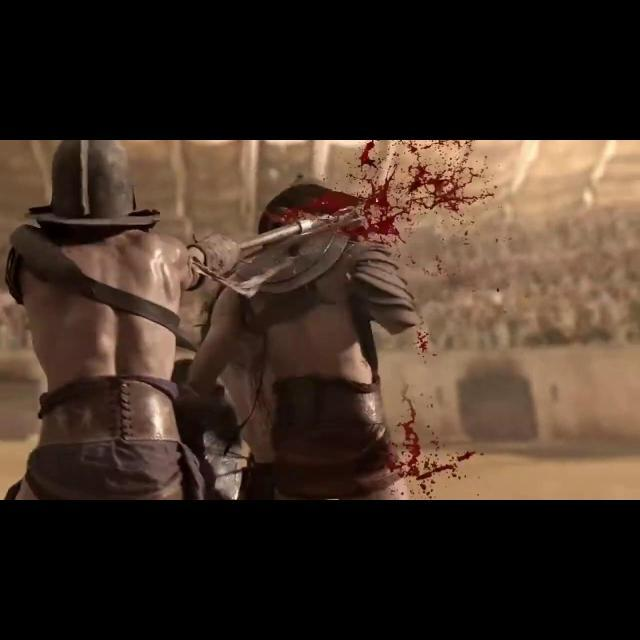blood: (258, 140, 495, 245), (393, 384, 476, 498), (414, 322, 432, 362)
